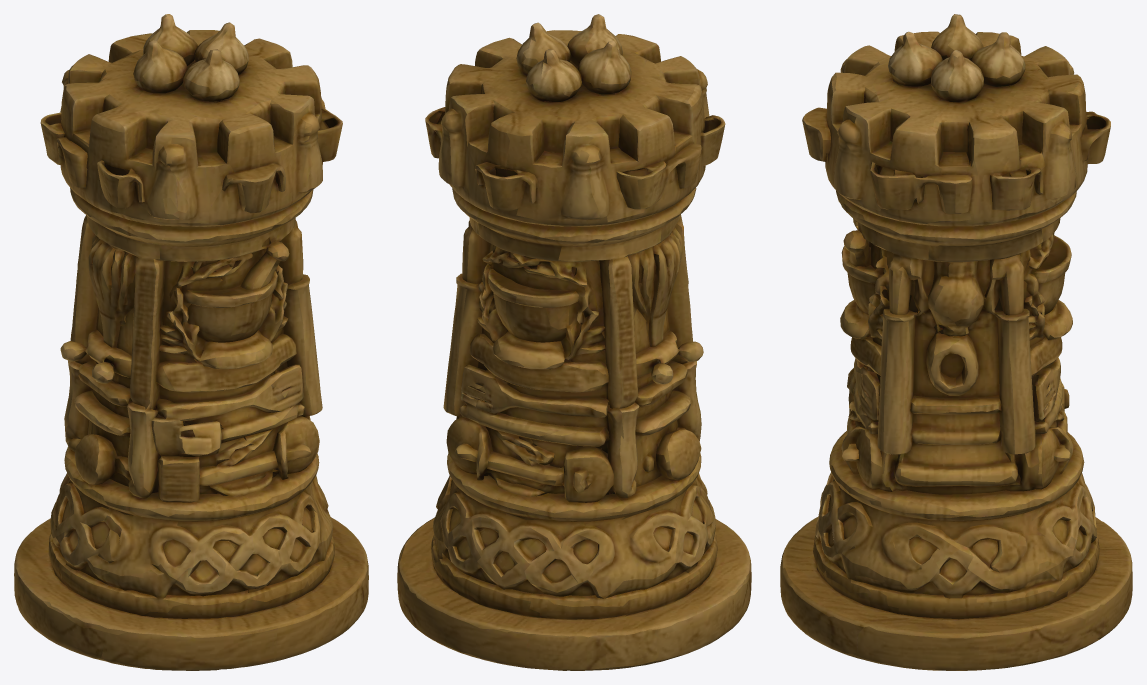
3 views of the same model, side by side, from view 1: azimuth 30°, elevation 25°; view 2: azimuth 150°, elevation 25°; view 3: azimuth 270°, elevation 25° (orthographic).
Parts seen in each view (by area): view 1: world; view 2: world; view 3: world.
Part boxes in pixels (box(x1,y1,x2,y2)): world: box(14, 14, 368, 670); world: box(397, 14, 751, 670); world: box(780, 14, 1132, 670).
Bounding box in the file's own units: 0.181 × 0.32 × 0.1805.
Materials: 1 (1 with a texture image).
